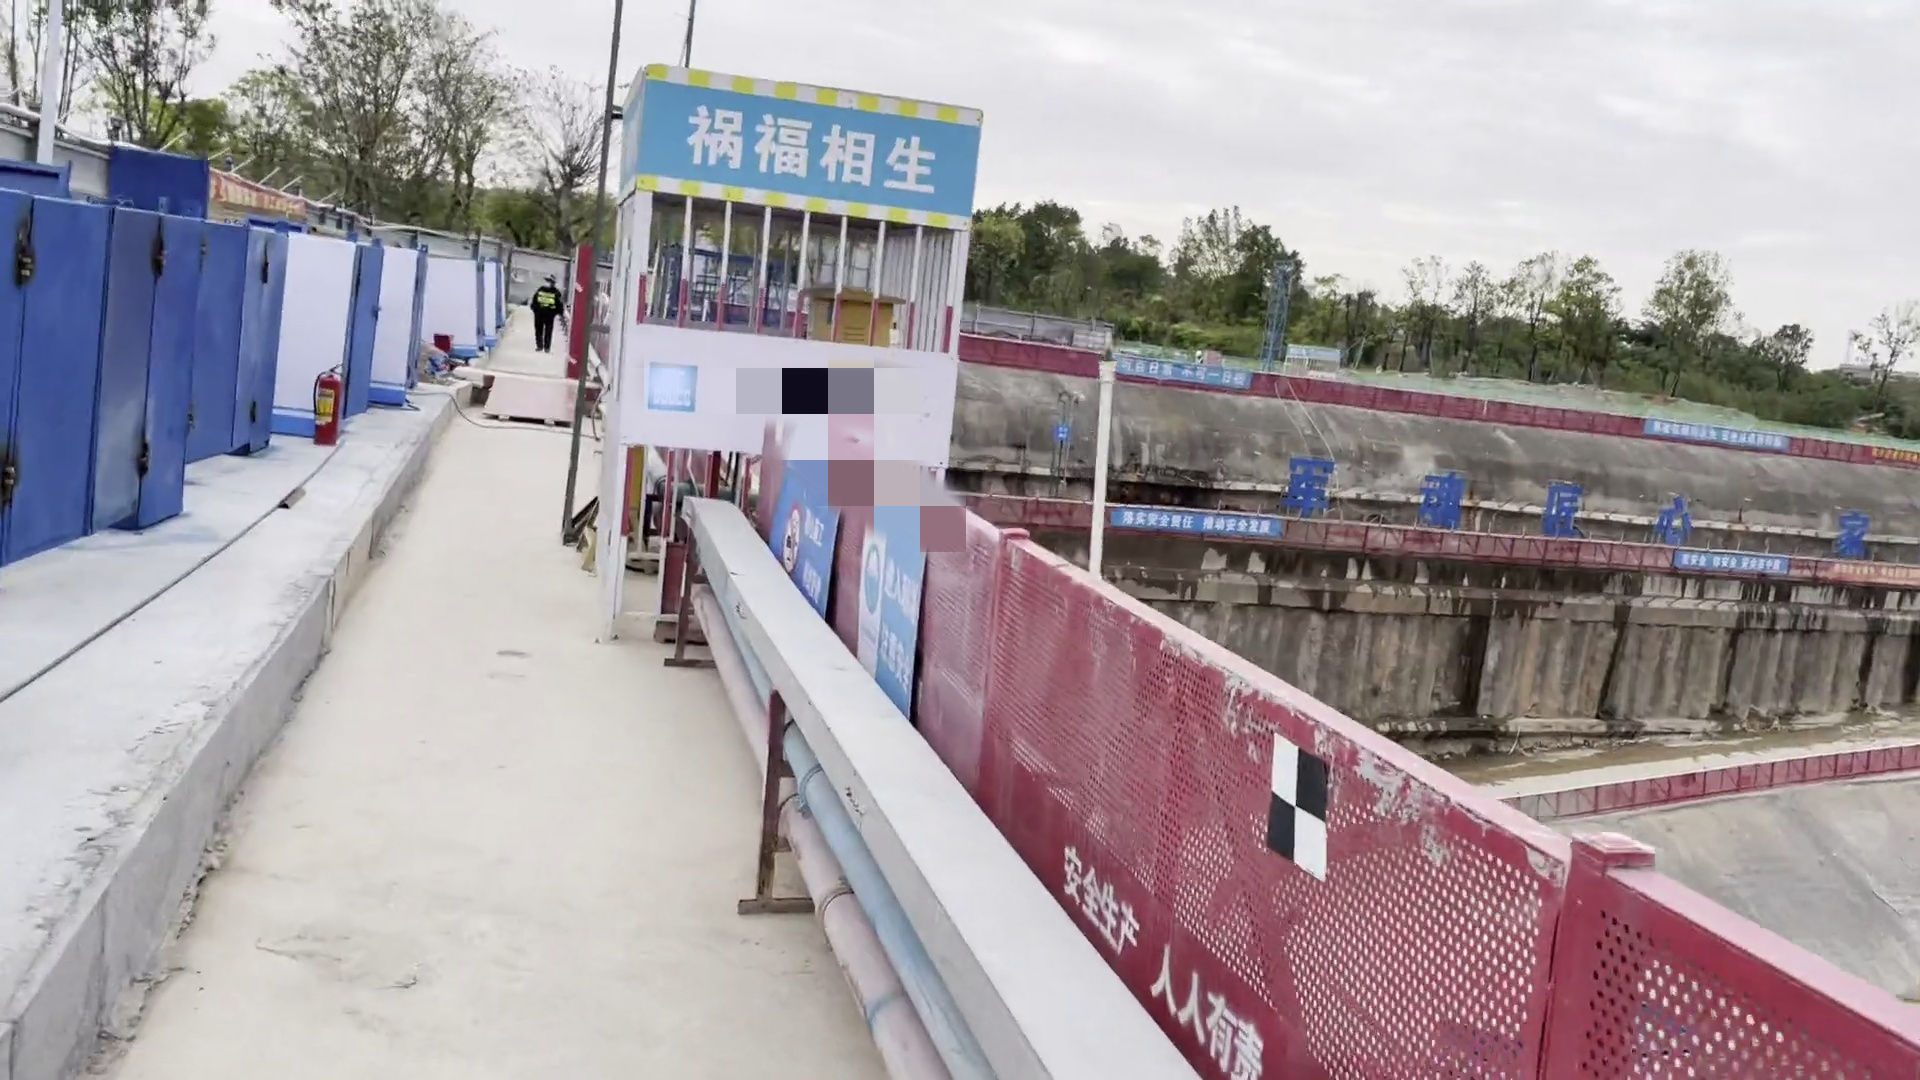ebox: (785, 261, 899, 359), (598, 423, 645, 547)
fence: (1042, 561, 1463, 1080), (1434, 769, 1920, 1080), (765, 437, 1054, 901), (956, 326, 1271, 405), (1256, 505, 1567, 580), (967, 482, 1263, 549)
helmet: (542, 272, 559, 283)
person: (529, 261, 567, 369)
slogan: (607, 72, 1027, 255), (737, 422, 957, 731), (1100, 500, 1292, 559), (1106, 347, 1276, 400), (1641, 407, 1790, 455), (199, 162, 311, 224), (1664, 538, 1781, 578), (1821, 558, 1920, 593), (313, 378, 344, 438)
vest: (532, 284, 559, 315)
